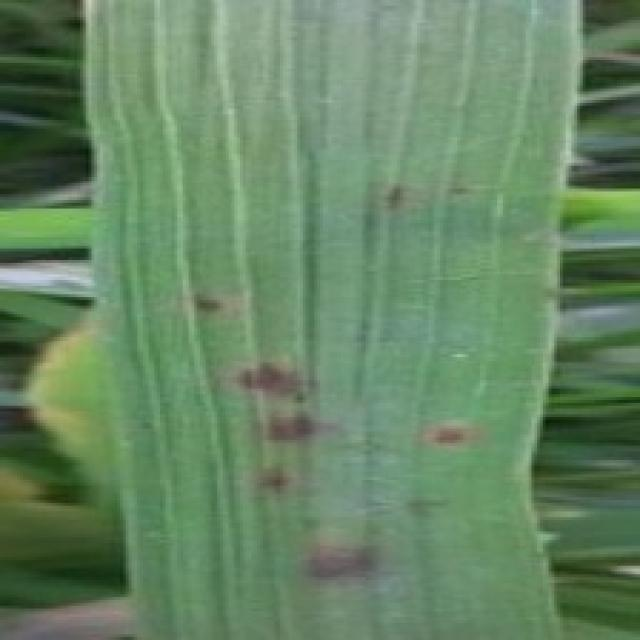Rice___Brown_Spot: (85, 0, 583, 637)
